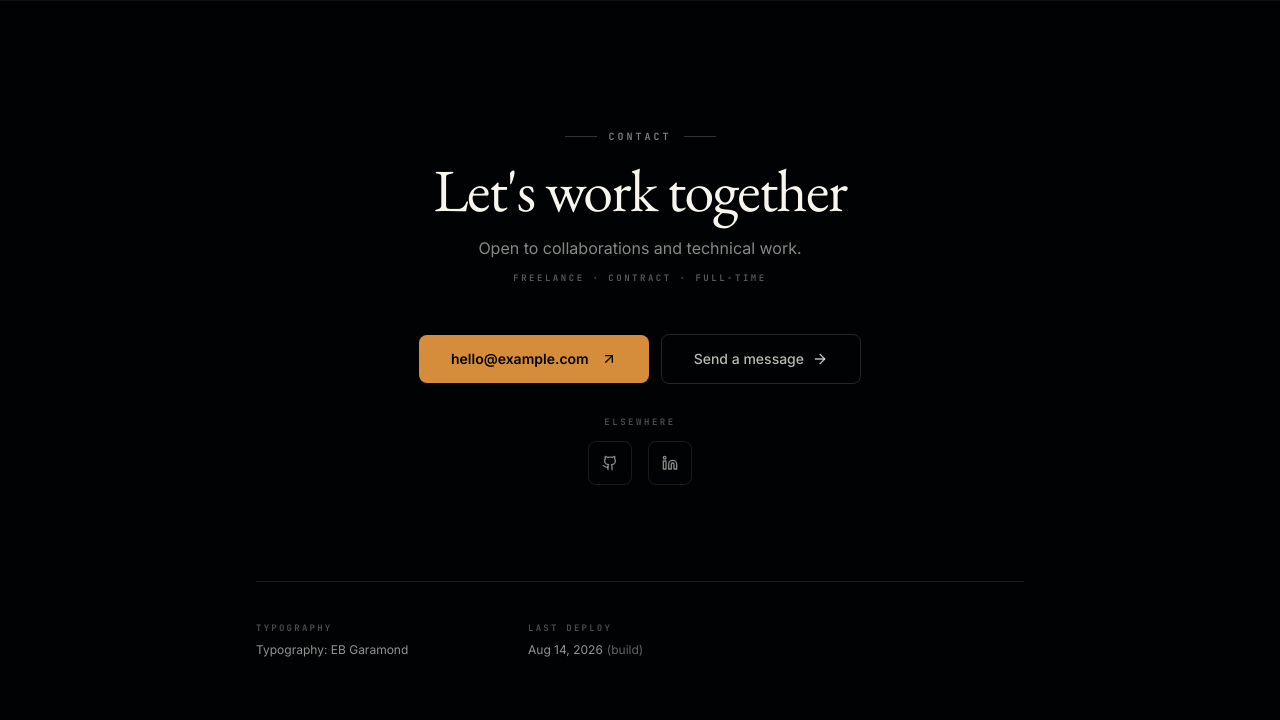
it: Contact section › shows the form when clicking the button
Click the button "Send a message". click: point(761, 358)
box: [661,334,861,384]
(page scrolled)
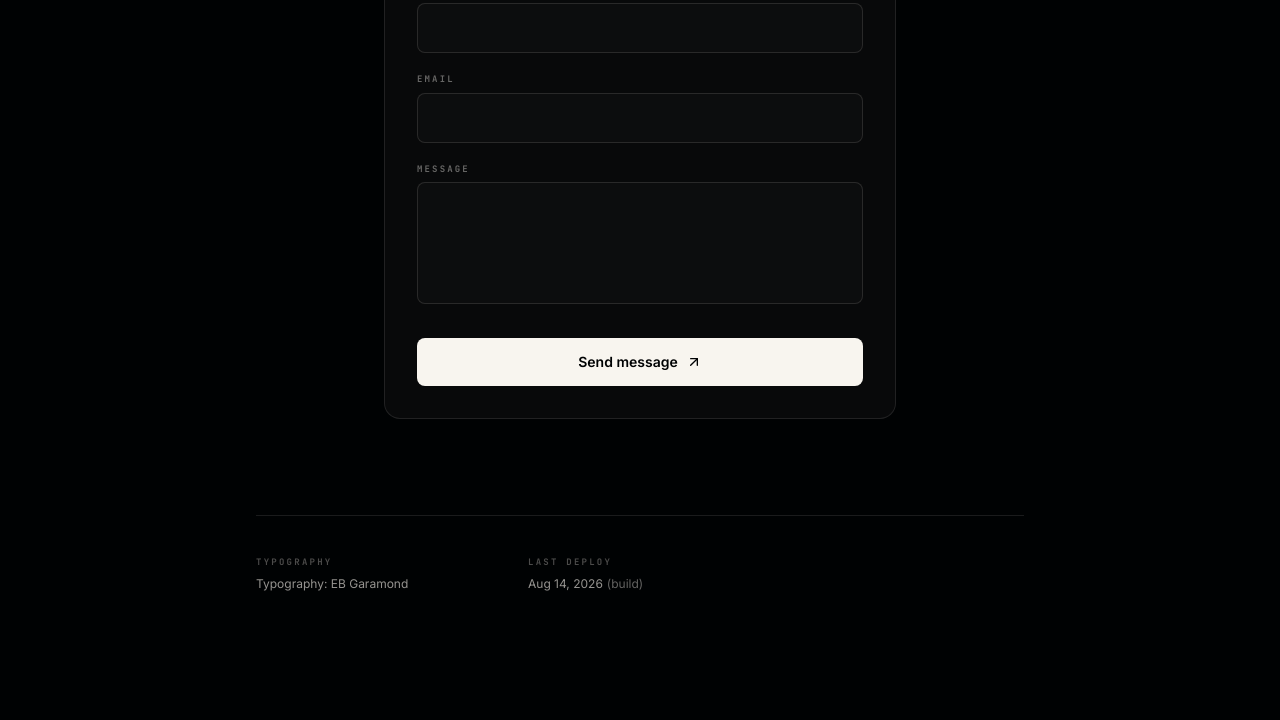
Expected: the field labelled "Name" is shown, [417,3,863,53]
Expected: the field labelled "Email" is shown, [417,92,863,142]
Expected: the text box labelled "Message" is shown, [417,182,863,304]
